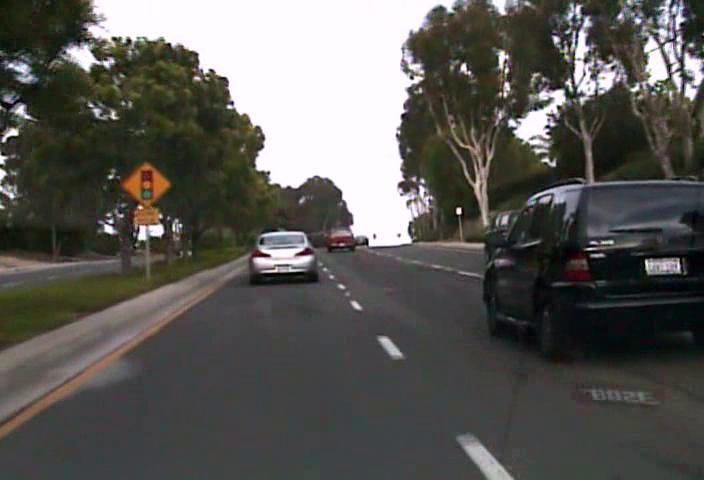signalAhead: (120, 159, 172, 208)
